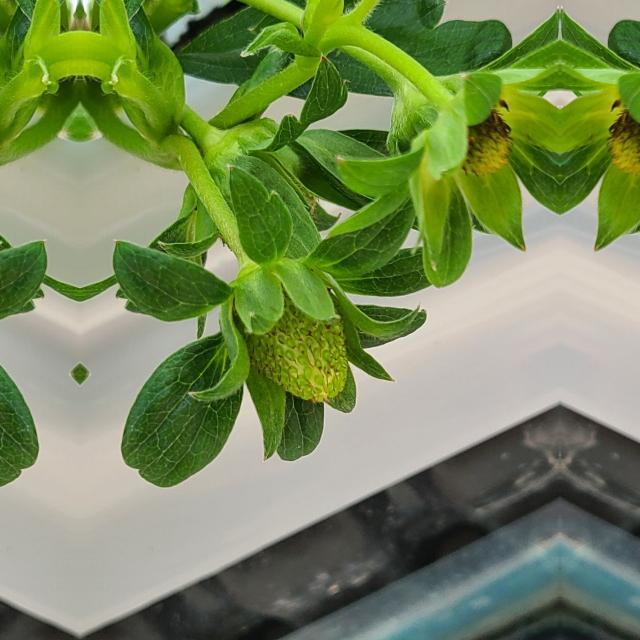Health_25: (235, 286, 347, 400)
